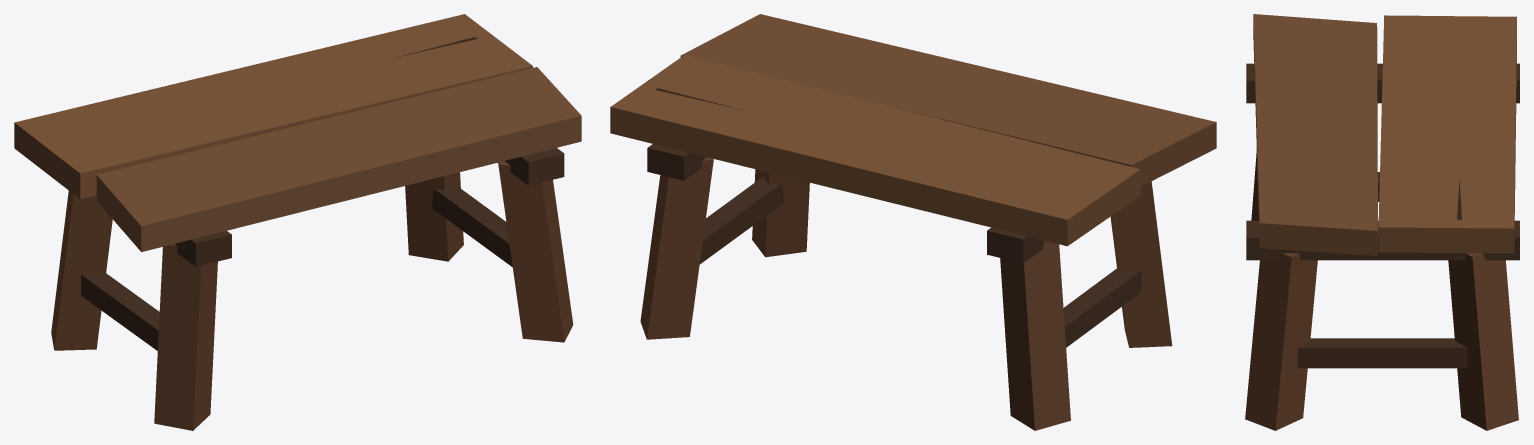
Rendered from tl_furn_table_low_v01.glb.
3 views of the same model, side by side, from view 1: azimuth 30°, elevation 25°; view 2: azimuth 150°, elevation 25°; view 3: azimuth 270°, elevation 25° (orthographic). The views are drawn at different scales.
Parts seen in each view (by area): view 1: tl_furn_table_low_v01; view 2: tl_furn_table_low_v01; view 3: tl_furn_table_low_v01.
Boxes of the visible parts, x1,y1,x2,y2 form: tl_furn_table_low_v01: (14,14,581,430); tl_furn_table_low_v01: (610,14,1216,430); tl_furn_table_low_v01: (1245,14,1519,430).
Size of the model in its own units: 1.02 by 0.4634 by 0.5483.
